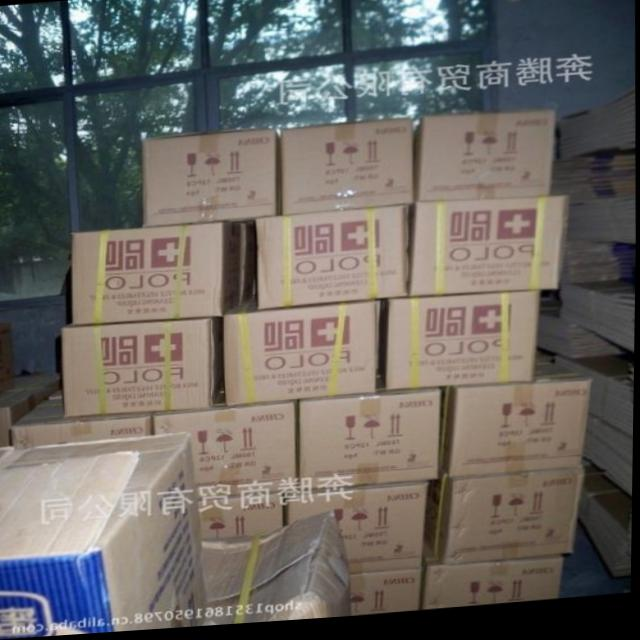box: (1, 434, 355, 640), (223, 292, 382, 410), (72, 225, 245, 327), (252, 206, 410, 312), (445, 366, 590, 480), (62, 317, 221, 418), (427, 472, 586, 572), (385, 297, 543, 395), (411, 203, 566, 300), (299, 393, 444, 495), (284, 482, 433, 576), (151, 407, 300, 498), (145, 131, 278, 226), (411, 117, 554, 205), (282, 125, 417, 217), (12, 381, 151, 448), (424, 550, 567, 611), (197, 496, 290, 542), (350, 573, 426, 619), (0, 388, 40, 449), (3, 370, 61, 393), (239, 229, 254, 304)
